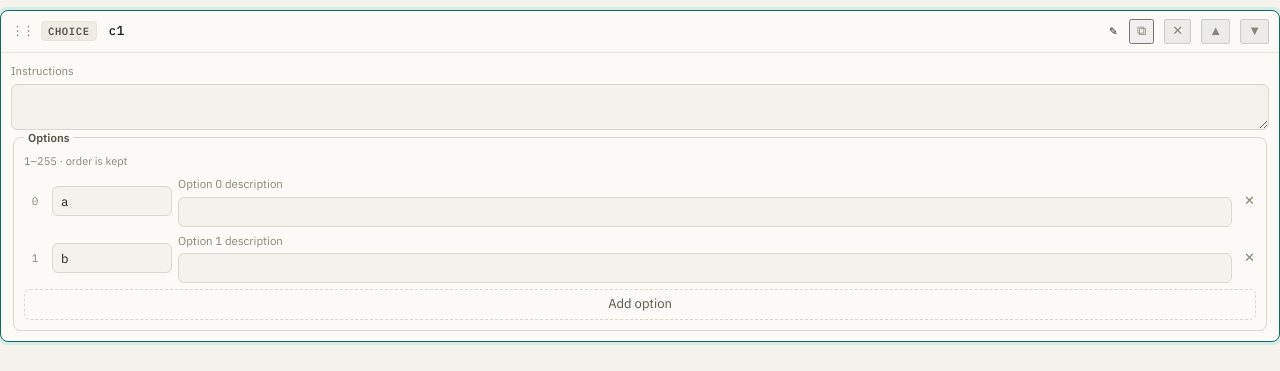
ChoiceForm › renaming to an existing key shows an alert and leaves the store unchanged
The image size is (1280, 371).
Replace the text in the field named "Option 0 key" with "b". click: (112, 202)
box: [52,186,172,216]
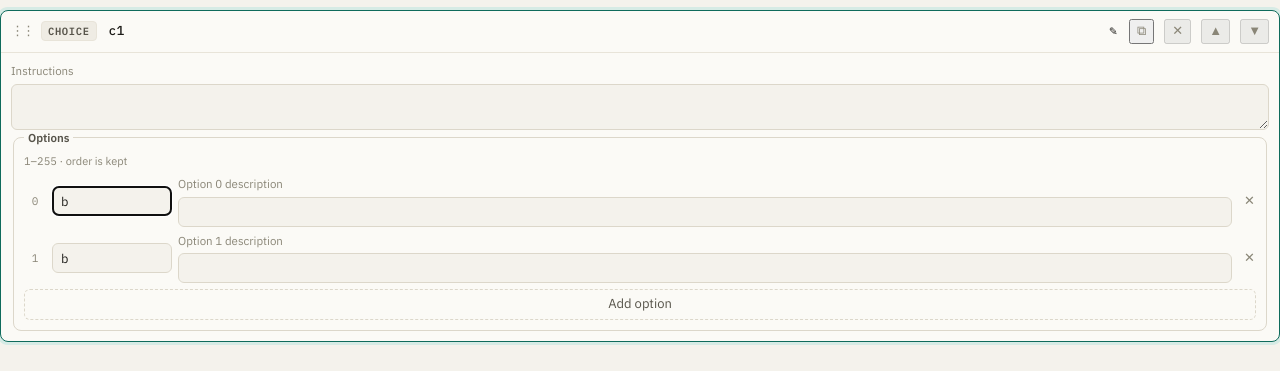
Press Enter
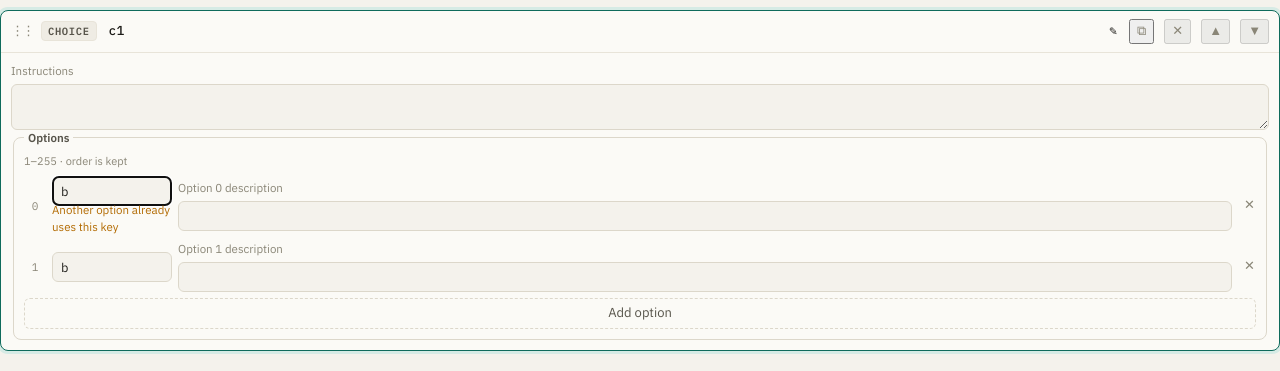
Now the message reads "Another option already uses this key", box [52,202,170,234]
